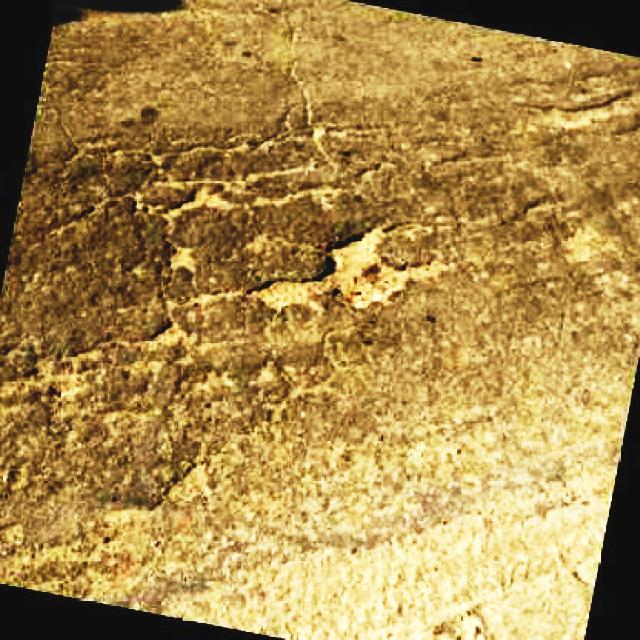pothole: (254, 225, 441, 312)
